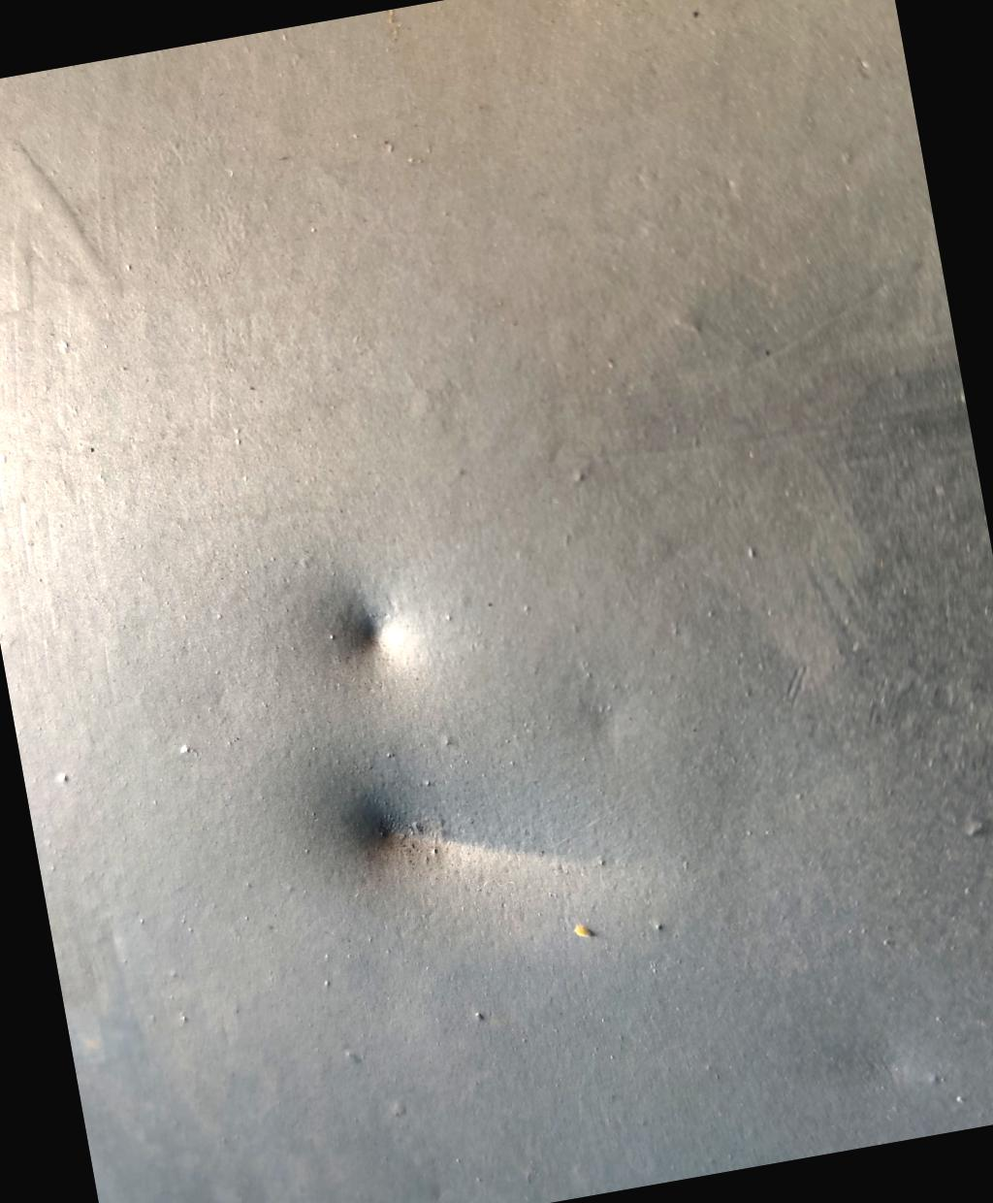dent: (286, 703, 687, 985), (266, 502, 480, 751)
